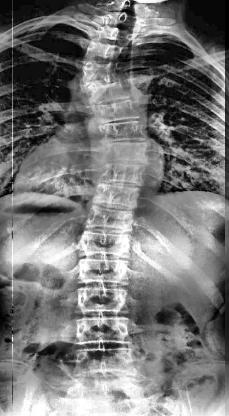Vertebrae: (73, 348, 137, 376), (74, 316, 132, 346), (79, 256, 131, 286), (77, 287, 131, 315), (92, 182, 142, 210), (82, 229, 132, 257), (87, 205, 136, 233), (94, 100, 144, 126), (100, 120, 148, 146), (100, 162, 148, 188), (86, 80, 132, 106), (102, 142, 150, 166), (80, 61, 121, 85), (84, 38, 124, 62), (97, 24, 133, 46)
